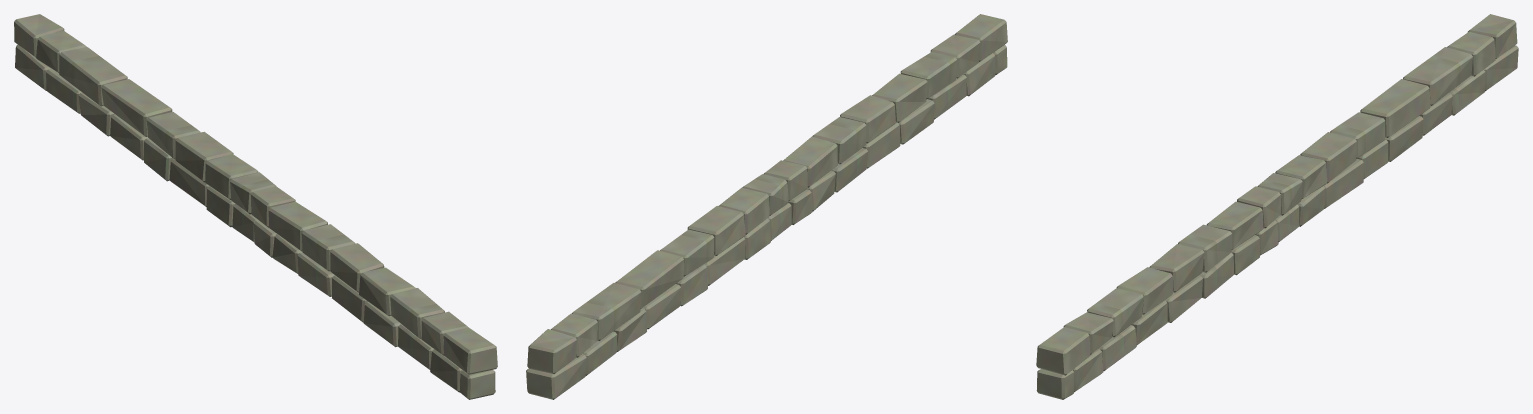
The model's file is SM_HH_V2_Stone_Rear.fbx.
3 renders of one model, left to right at view 1: azimuth 30°, elevation 25°; view 2: azimuth 150°, elevation 25°; view 3: azimuth 330°, elevation 25°, orthographic.
Visible parts, largest first — view 1: HH_V2_Stone_Rear; view 2: HH_V2_Stone_Rear; view 3: HH_V2_Stone_Rear.
Boxes of the visible parts, x1,y1,x2,y2 form: HH_V2_Stone_Rear: (14, 14, 497, 399); HH_V2_Stone_Rear: (526, 14, 1007, 399); HH_V2_Stone_Rear: (1036, 14, 1518, 399).
Size of the model in its own units: 8.76 by 0.3523 by 0.5441.
